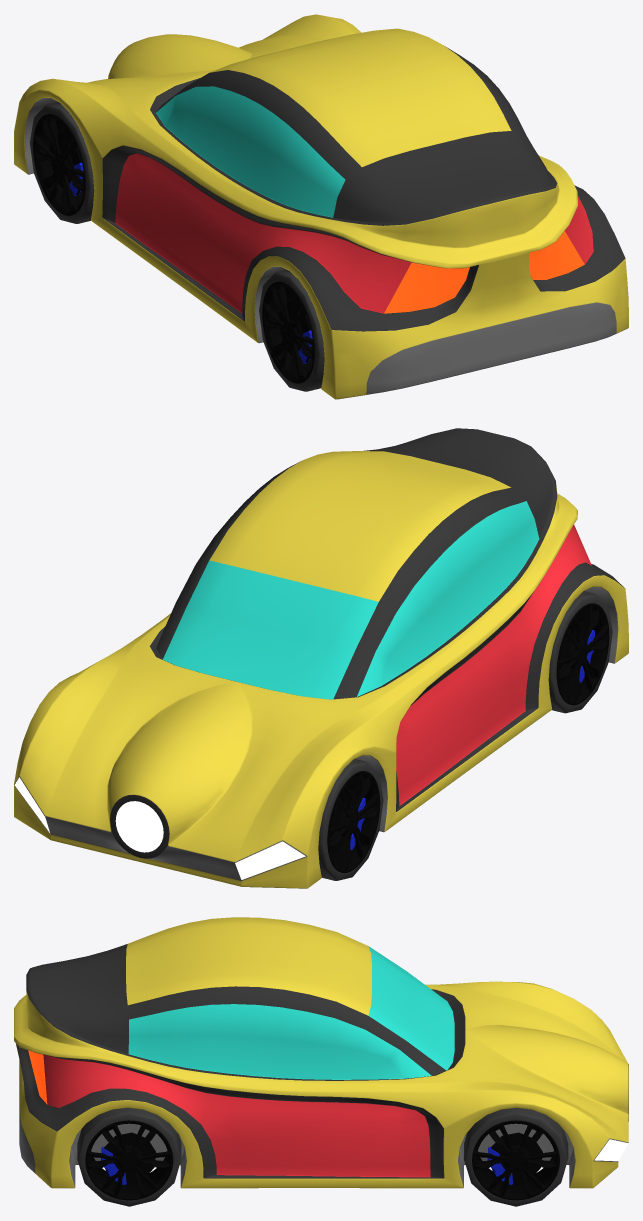
Rendered from future.glb.
The picture shows the model from 3 angles, top to bottom: view 1: azimuth 30°, elevation 25°; view 2: azimuth 150°, elevation 25°; view 3: azimuth 270°, elevation 25°; orthographic projection. The views are drawn at different scales.
Parts seen in each view (by area): view 1: Car, Car_wheel.002, Car_wheel.003; view 2: Car, Car_wheel.003, Car_wheel.002; view 3: Car, Car_wheel.001, Car_wheel.
Part boxes in pixels (x1,y1,x2,y2): Car: (14, 14, 628, 399); Car_wheel.002: (259, 269, 324, 391); Car_wheel.003: (29, 102, 94, 223); Car: (14, 428, 628, 888); Car_wheel.003: (318, 759, 383, 880); Car_wheel.002: (548, 591, 612, 713); Car: (14, 917, 628, 1188); Car_wheel.001: (77, 1108, 181, 1206); Car_wheel: (464, 1107, 568, 1206).
Bounding box in the file's own units: 21.91 × 16.39 × 46.15.
